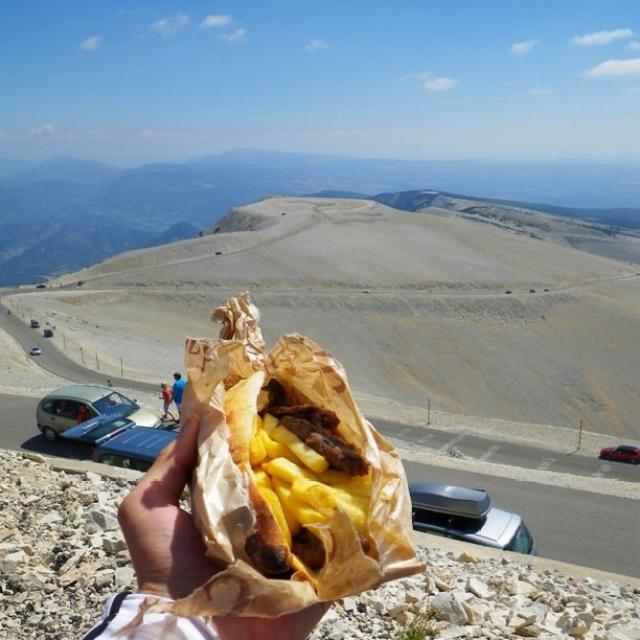Vehicle: (404, 478, 539, 558), (35, 384, 165, 441), (57, 419, 181, 472), (599, 444, 640, 464), (29, 345, 41, 356), (43, 329, 54, 338), (31, 318, 40, 328)
